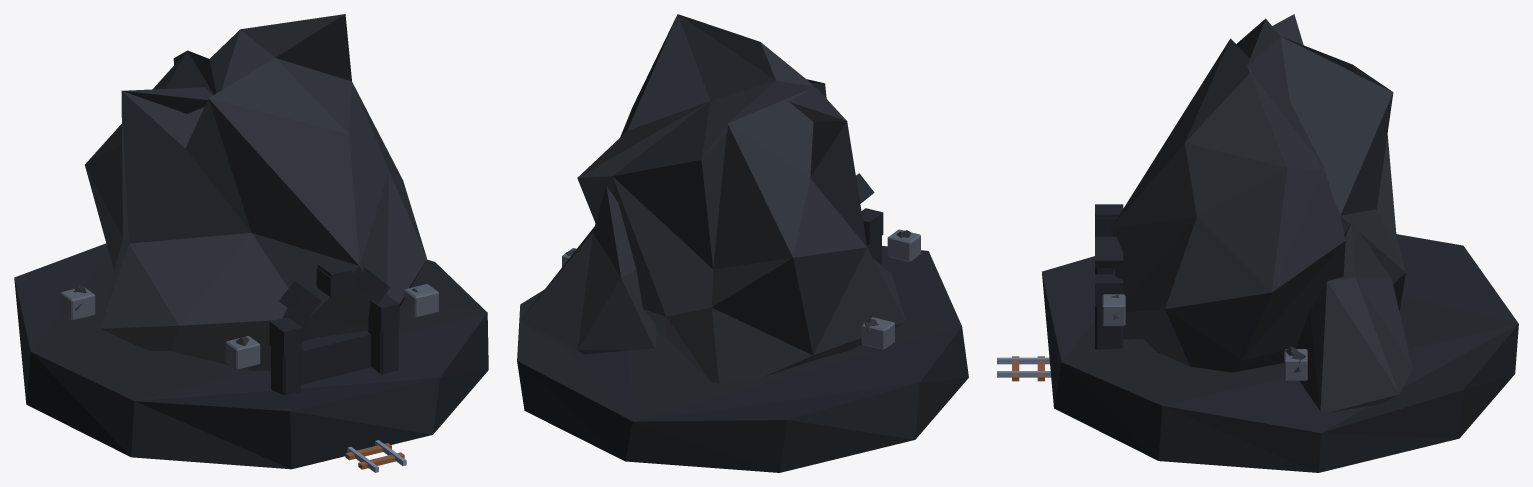
File: SM_Mountain_Coal.fbx
3 renders of one model, left to right at view 1: azimuth 30°, elevation 25°; view 2: azimuth 150°, elevation 25°; view 3: azimuth 270°, elevation 25°, orthographic. The views are drawn at different scales.
Parts seen in each view (by area): view 1: SM_Mountain_Coal; view 2: SM_Mountain_Coal; view 3: SM_Mountain_Coal.
Part boxes in pixels (x1,y1,x2,y2): SM_Mountain_Coal: (14,14,488,472); SM_Mountain_Coal: (517,14,968,472); SM_Mountain_Coal: (997,14,1518,472).
Size of the model in its own units: 10.1 by 8.21 by 11.17.
